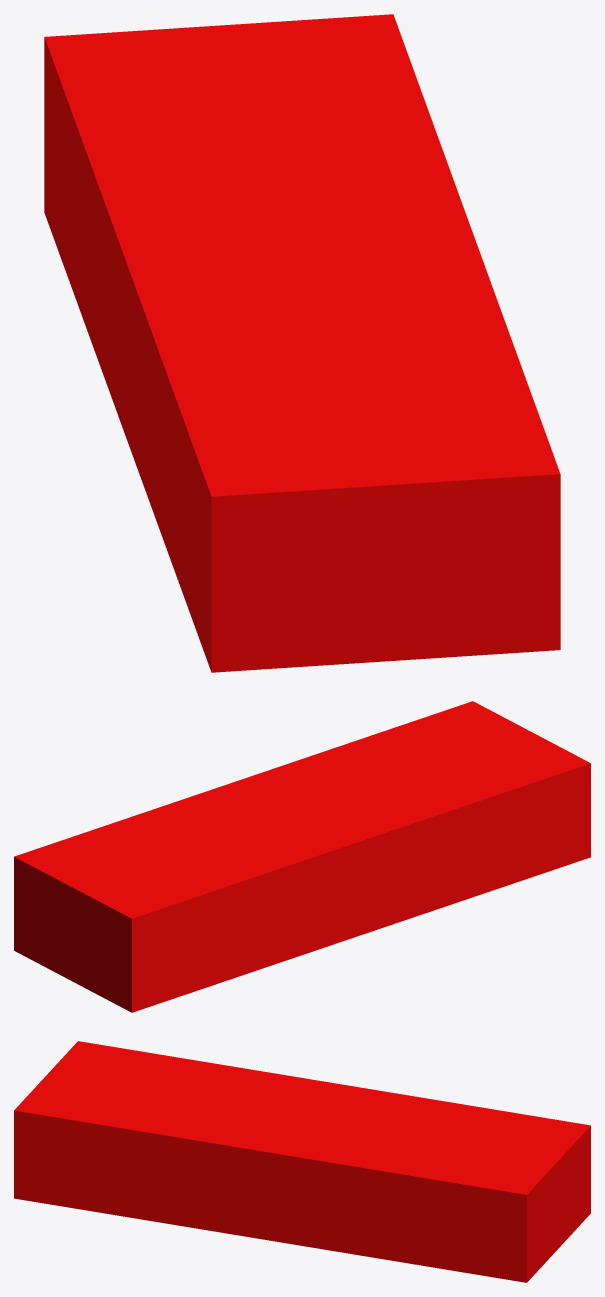
The model's file is BosquesdelasVictorias_Dummys_INV_Mz3.fbx.
3 views of the same model, one above another, from view 1: azimuth 30°, elevation 25°; view 2: azimuth 150°, elevation 25°; view 3: azimuth 270°, elevation 25° (orthographic). The views are drawn at different scales.
Visible parts, largest first — view 1: Cube__4_; view 2: Cube__4_; view 3: Cube__4_.
Boxes of the visible parts, bbox=[...] form: Cube__4_: bbox=[44, 14, 560, 672]; Cube__4_: bbox=[14, 701, 590, 1012]; Cube__4_: bbox=[14, 1041, 590, 1282].
Bounding box in the file's own units: 3616 × 964 × 5728.
